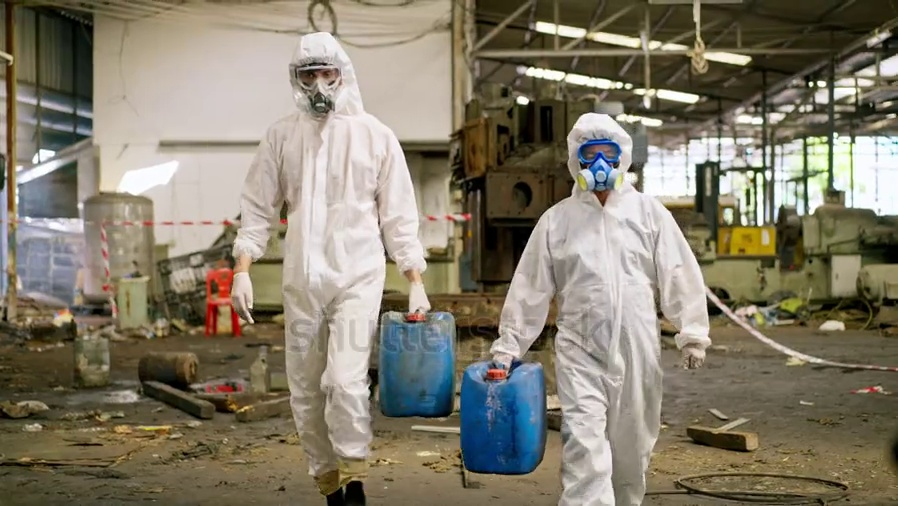mask: (575, 152, 624, 192), (295, 81, 338, 114)
person: (233, 31, 431, 506), (488, 111, 712, 506)
